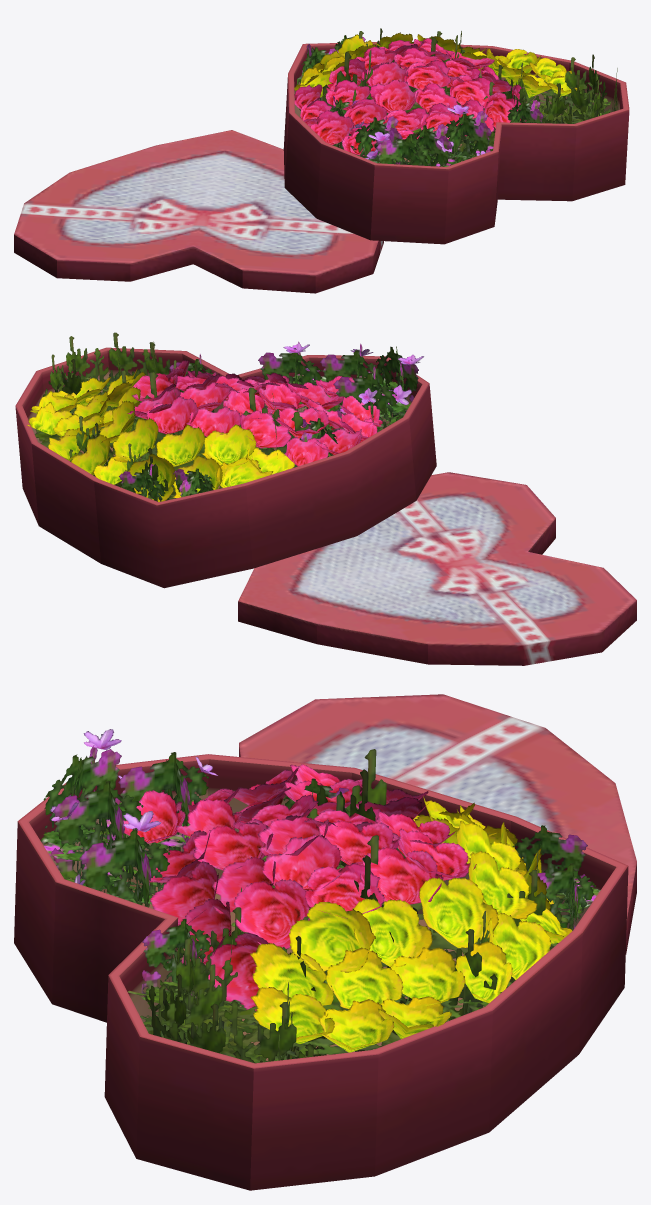
File: furni_0200208.FBX
The picture shows the model from 3 angles, top to bottom: view 1: azimuth 30°, elevation 25°; view 2: azimuth 150°, elevation 25°; view 3: azimuth 270°, elevation 25°; orthographic projection. The views are drawn at different scales.
Parts seen in each view (by area): view 1: furni_0200208; view 2: furni_0200208; view 3: furni_0200208.
Part boxes in pixels (bbox=[...]): furni_0200208: bbox=[14, 28, 629, 293]; furni_0200208: bbox=[15, 332, 636, 665]; furni_0200208: bbox=[14, 694, 636, 1190].
Bounding box in the file's own units: 142 × 34.6 × 77.85.
